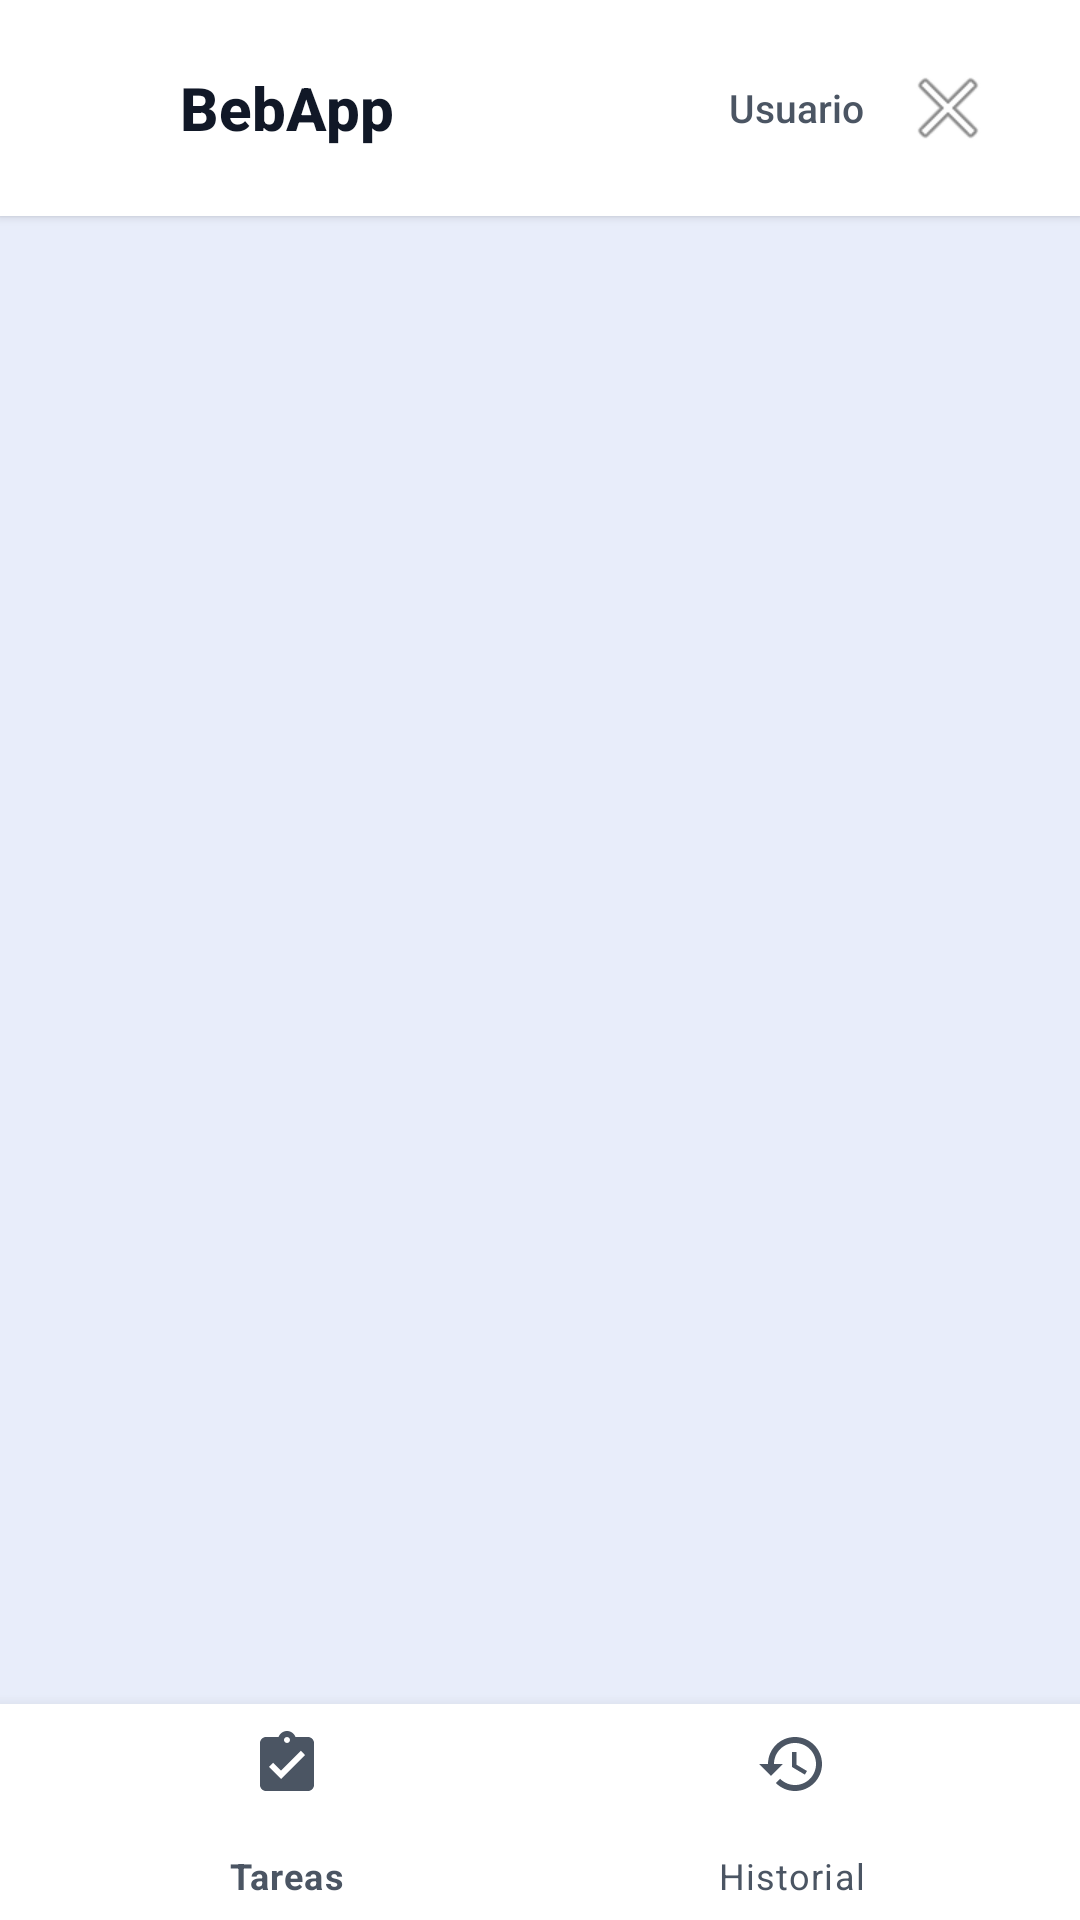

Where to tap for icons on this 1080px×1920px app screen, as [x,y]:
Cerrar sesion: [948,108]
